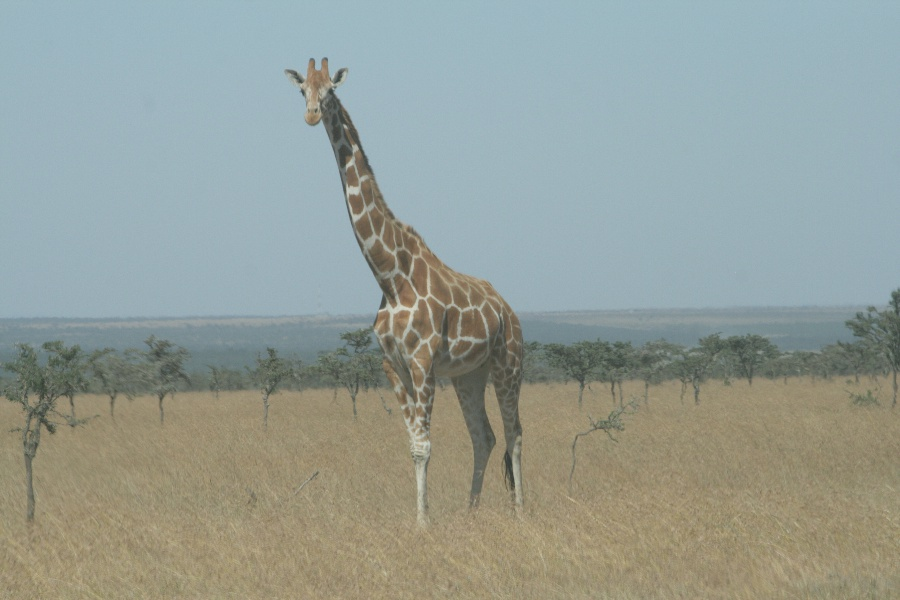giraffe: (278, 46, 536, 518)
